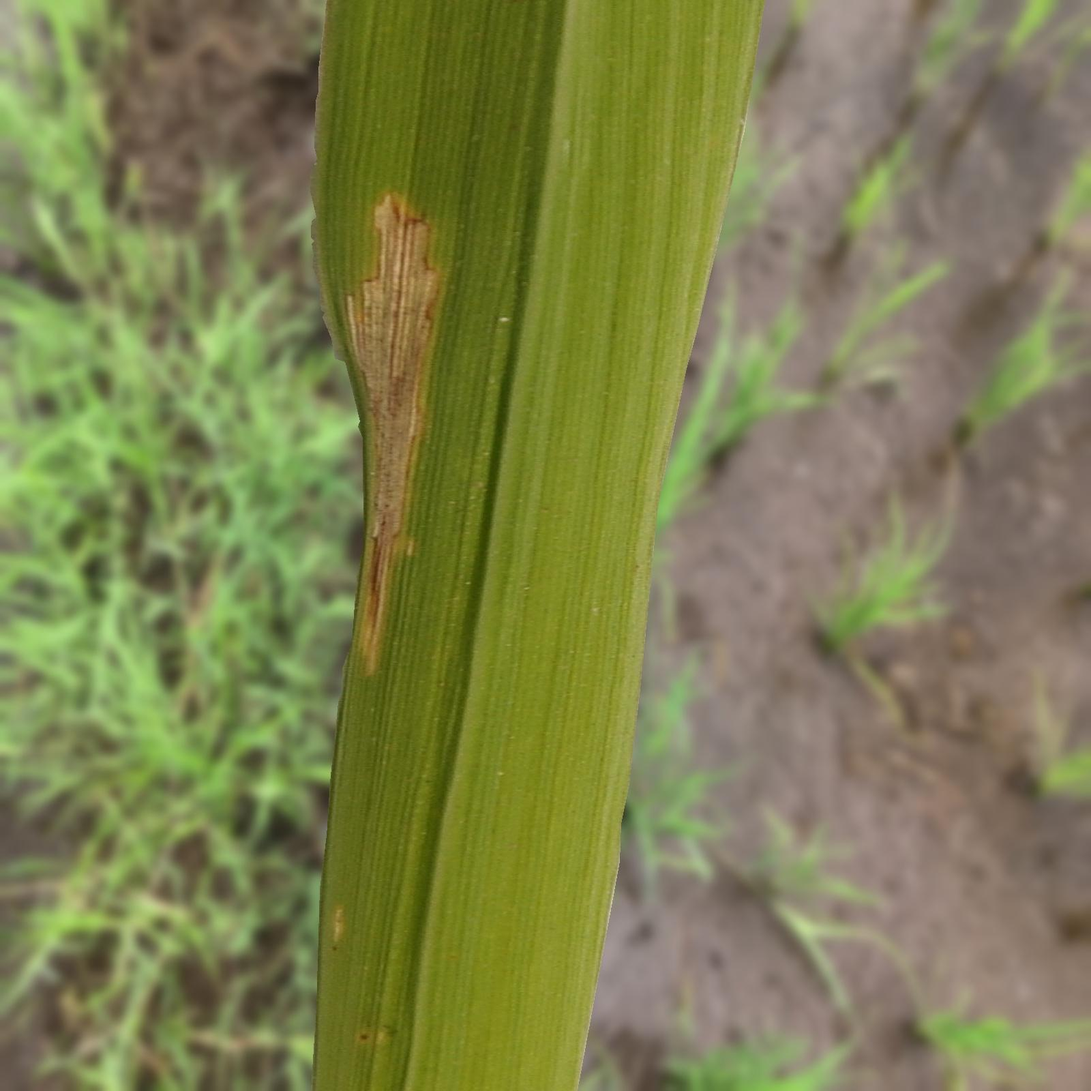BLS: (346, 193, 440, 674)
LEAF: (310, 0, 764, 1090)
